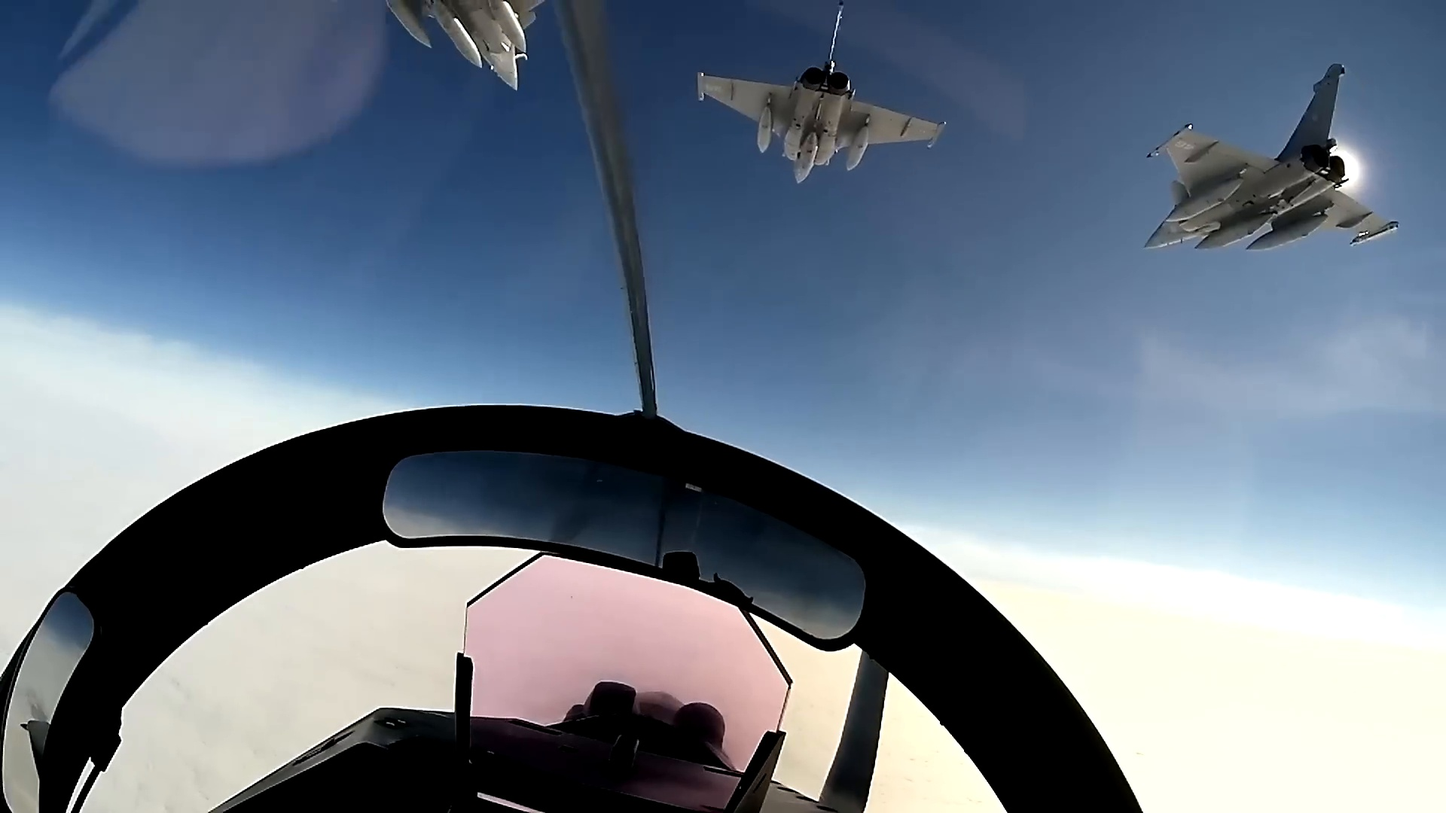Rafale: (1136, 64, 1408, 254), (699, 4, 945, 186)
